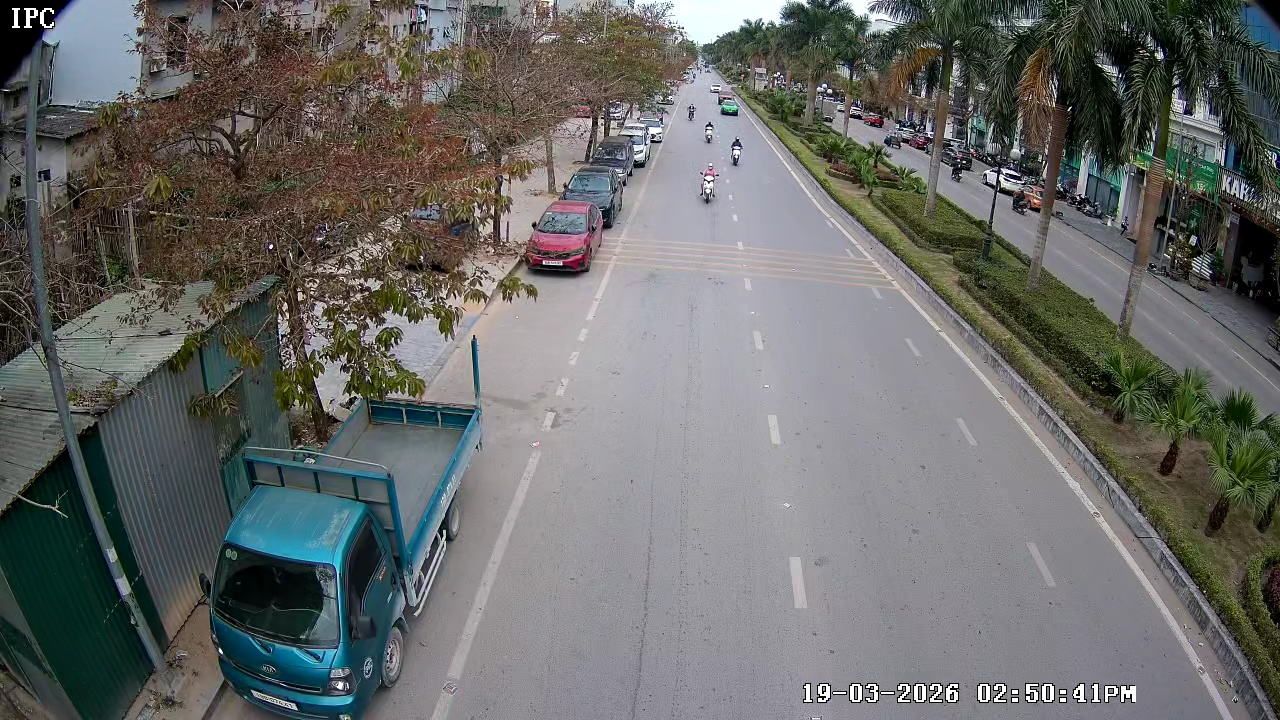car: (524, 199, 603, 276), (563, 168, 624, 227), (723, 98, 745, 121)
motorbike: (700, 159, 721, 207), (702, 118, 717, 143), (733, 135, 742, 167), (685, 102, 698, 120)
